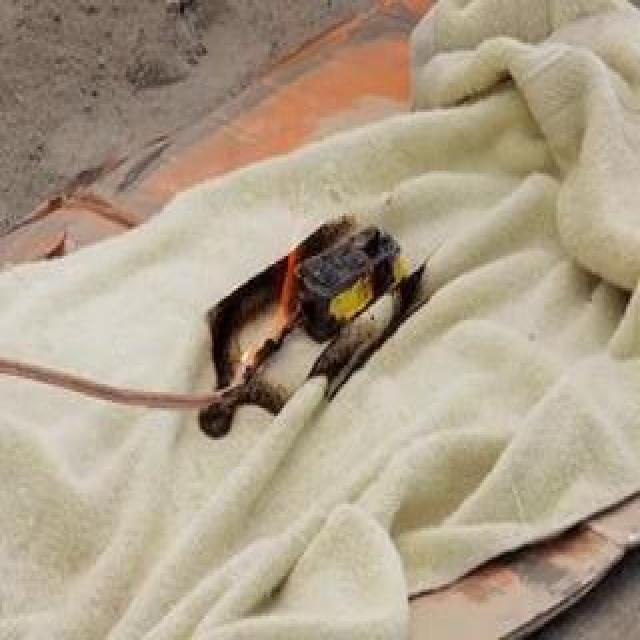Fire: (237, 240, 313, 381)
